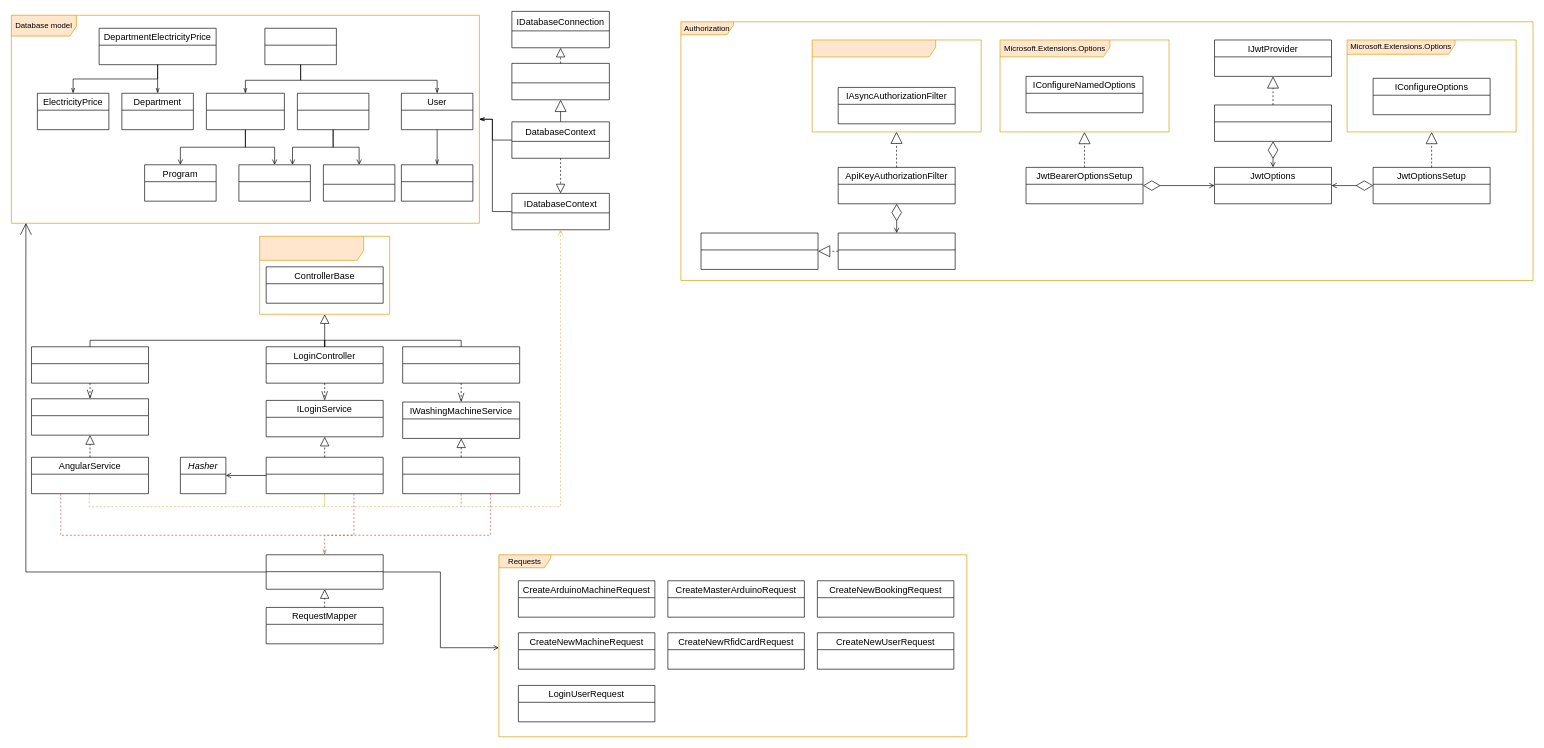
This 1544x748 diagram has some shape labels left out. Each missing label, with the centre of its shape:
"AngularController" goes at pixel 90 364.
"ApiKeyService" goes at pixel 896 250.
"ArduinoMacine" goes at pixel 359 182.
"Booking" goes at pixel 300 46.
"DatabaseConnection" goes at pixel 560 81.
"IAngularService" goes at pixel 90 416.
"IApiKeyService" goes at pixel 759 250.
"IRequestMapper" goes at pixel 324 571.
"JwtProvider" goes at pixel 1273 122.
"LoginService" goes at pixel 324 475.
"Machine" goes at pixel 274 182.
"MachineProgram" goes at pixel 245 111.
"MasterArduino" goes at pixel 333 111.
"Microsoft.AspNetCore.Mvc class" goes at pixel 324 275.
"Microsoft.AspNetCore.Mvc.Filters" goes at pixel 896 85.
"RfidCard" goes at pixel 437 182.
"WashingMachineController" goes at pixel 461 364.
"WashingMachineService" goes at pixel 461 475.
